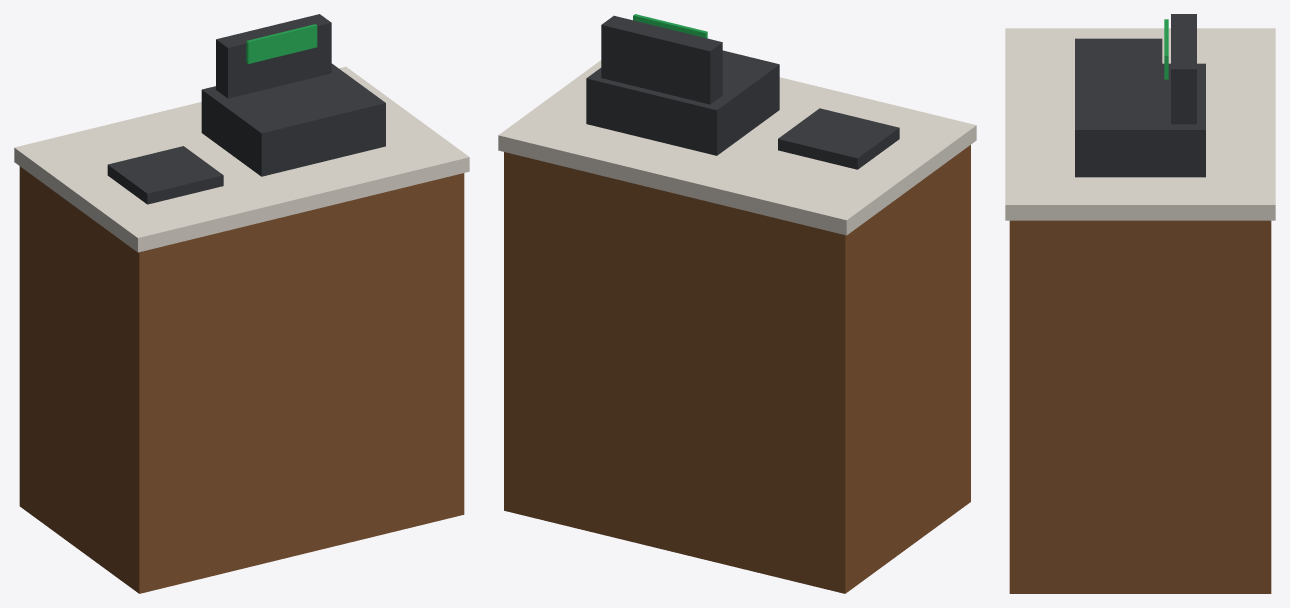
File: cash_register.glb
The picture shows the model from 3 angles, left to right: view 1: azimuth 30°, elevation 25°; view 2: azimuth 150°, elevation 25°; view 3: azimuth 270°, elevation 25°; orthographic projection. The views are drawn at different scales.
Visible parts, largest first — view 1: register_small; view 2: register_small; view 3: register_small.
Part boxes in pixels (<box>): register_small: <box>14,14,469,593</box>; register_small: <box>498,14,976,593</box>; register_small: <box>1005,14,1275,593</box>.
Size of the model in its own units: 0.96 by 1.26 by 0.62.
